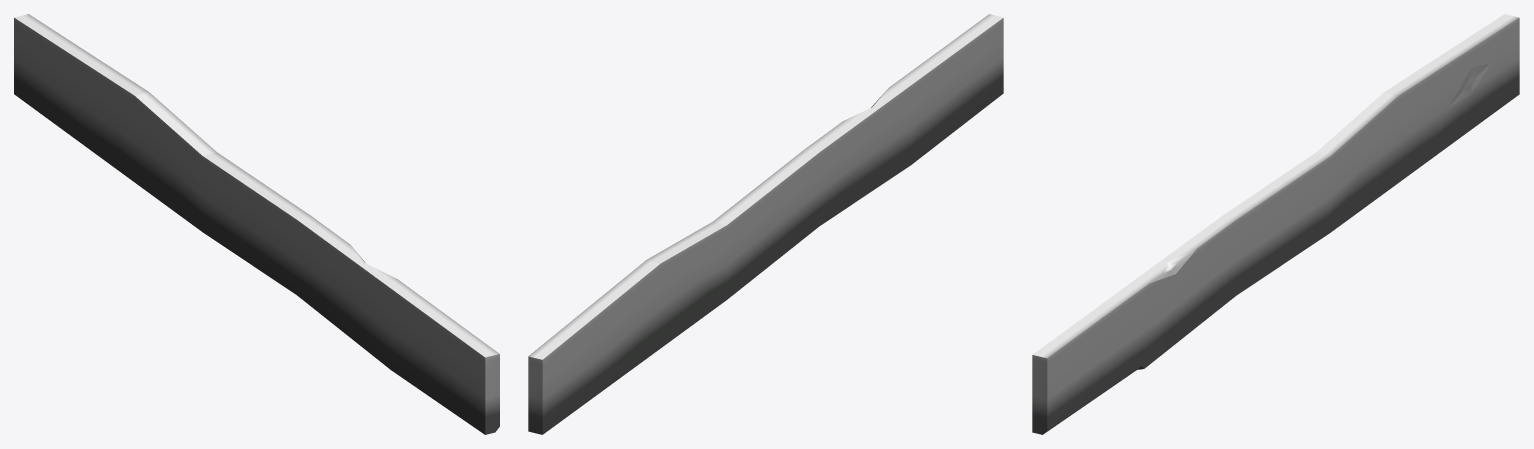
Rendered from SM_Barndoor_Wood_01.obj.
3 views of the same model, side by side, from view 1: azimuth 30°, elevation 25°; view 2: azimuth 150°, elevation 25°; view 3: azimuth 330°, elevation 25° (orthographic). The views are drawn at different scales.
Parts seen in each view (by area): view 1: SM_Barndoor_Wood_01_Mat_SwatchOverlay_PolygonTown_01_WoodRotated; view 2: SM_Barndoor_Wood_01_Mat_SwatchOverlay_PolygonTown_01_WoodRotated; view 3: SM_Barndoor_Wood_01_Mat_SwatchOverlay_PolygonTown_01_WoodRotated.
Part boxes in pixels (x1,y1,x2,y2): SM_Barndoor_Wood_01_Mat_SwatchOverlay_PolygonTown_01_WoodRotated: [14, 14, 499, 434]; SM_Barndoor_Wood_01_Mat_SwatchOverlay_PolygonTown_01_WoodRotated: [528, 14, 1003, 434]; SM_Barndoor_Wood_01_Mat_SwatchOverlay_PolygonTown_01_WoodRotated: [1032, 14, 1519, 434].
Bounding box in the file's own units: 0.1005 × 0.567 × 5.58.
Materials: 1 (1 with a texture image).
